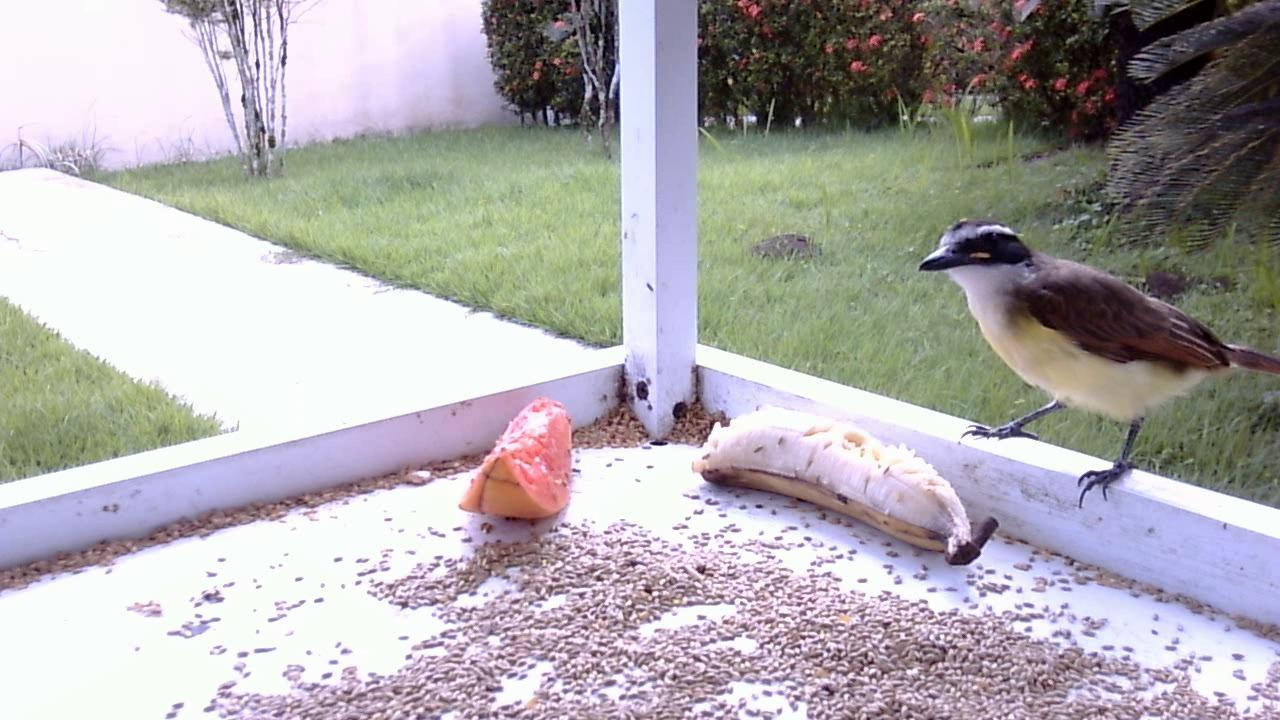bem_te_vi: (907, 210, 1278, 522)
